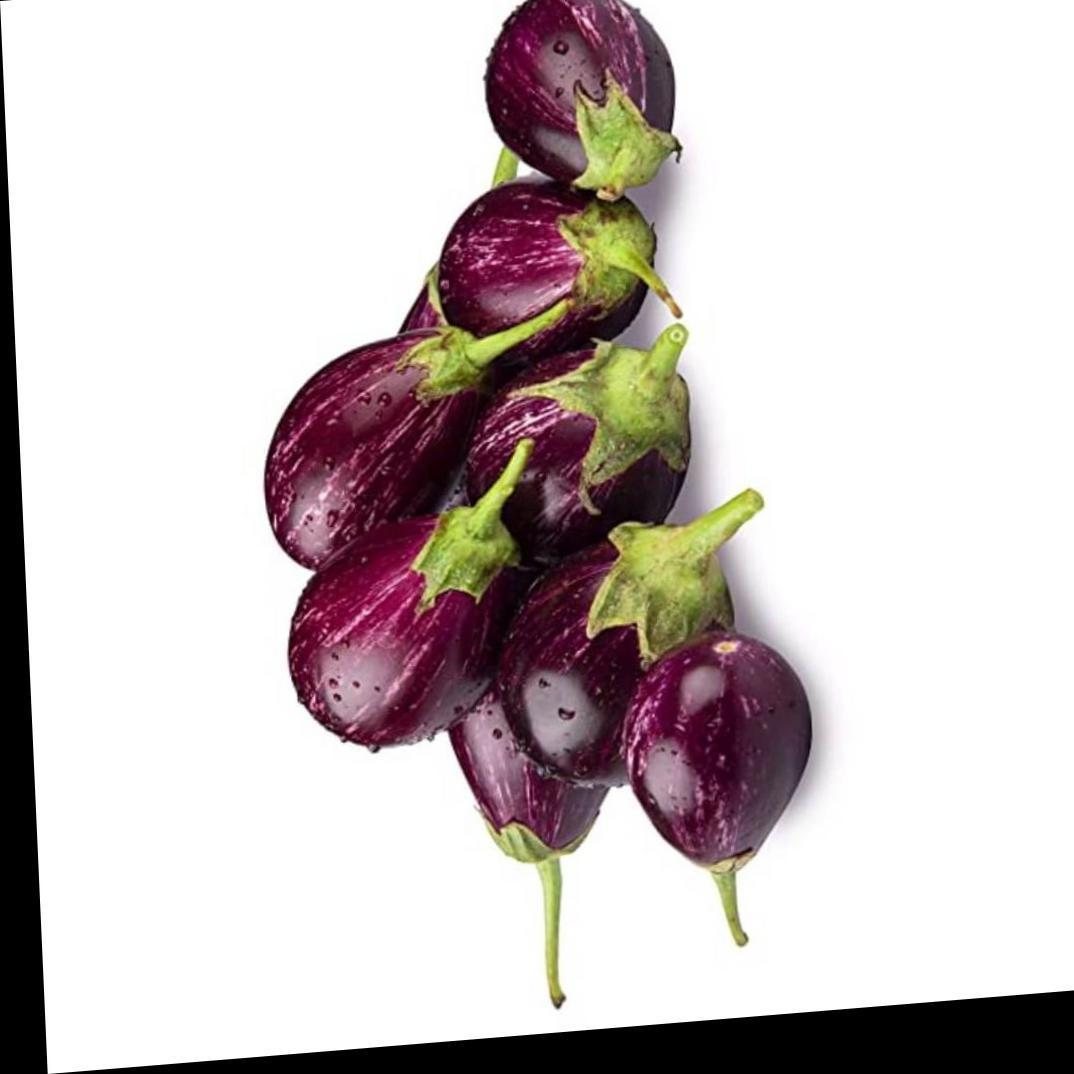eggplant: (222, 0, 852, 975), (257, 479, 566, 820), (600, 626, 868, 966)
